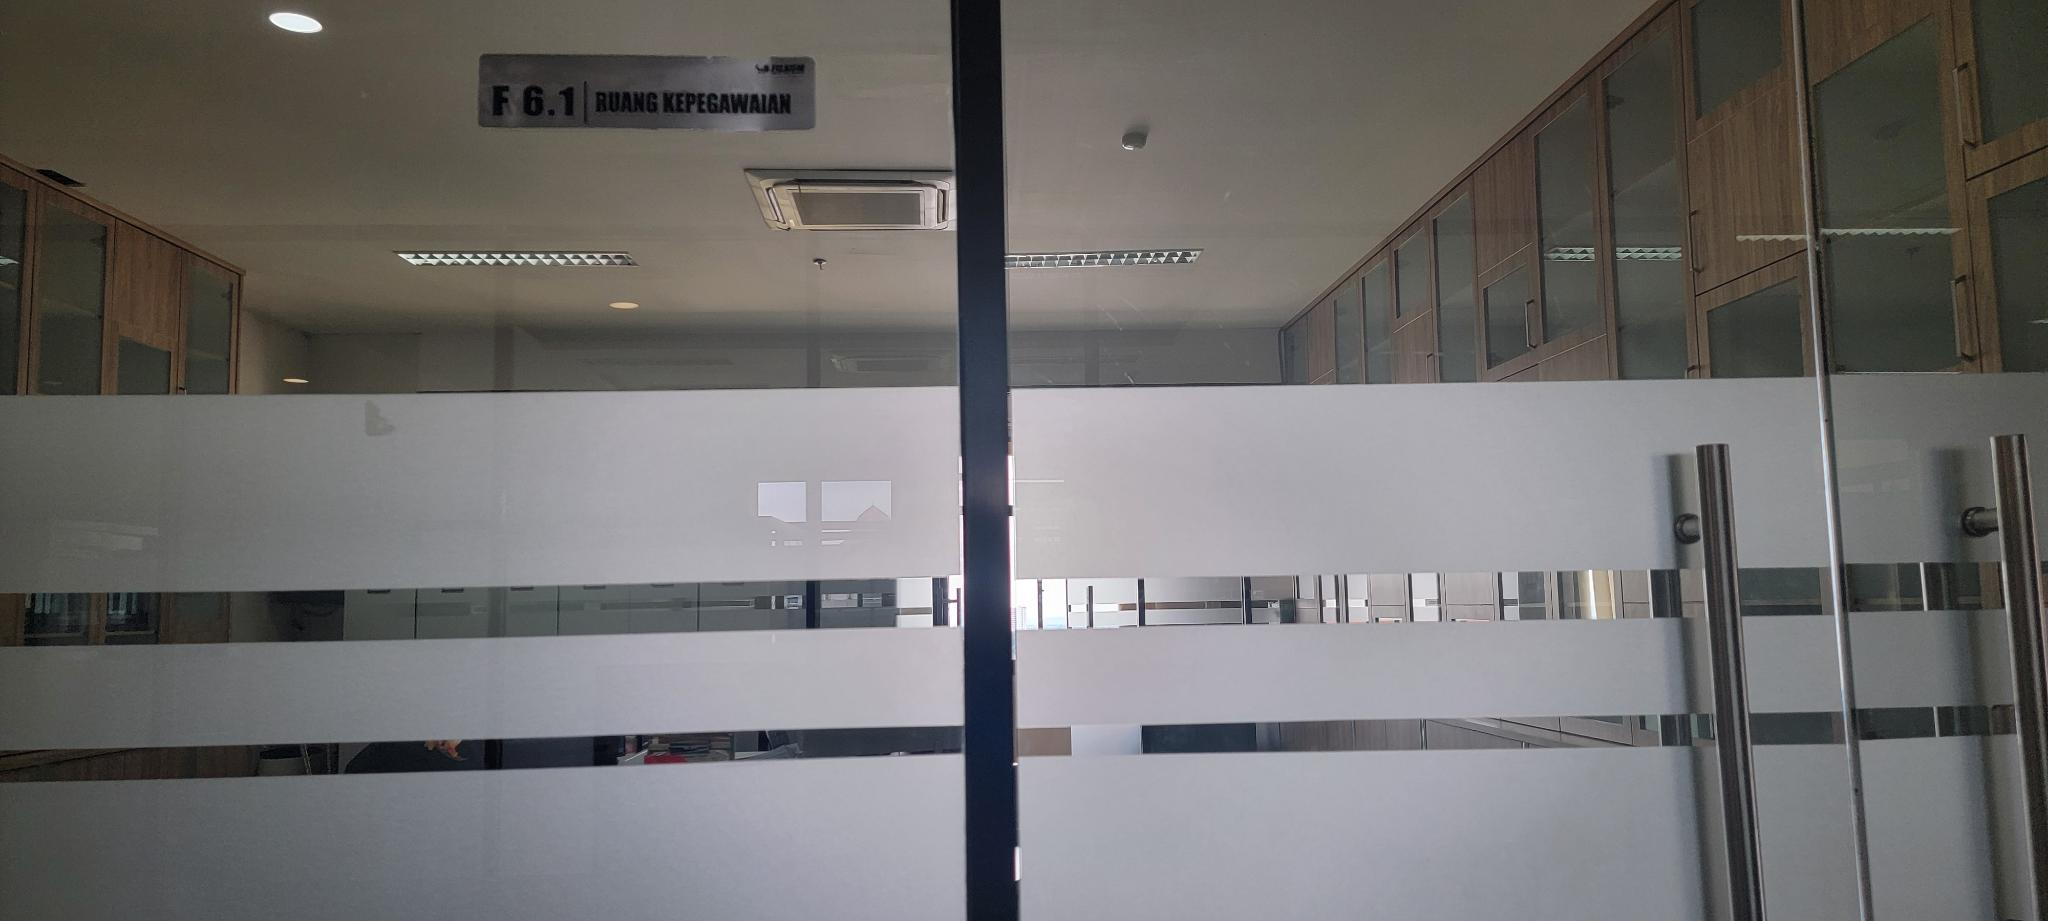plate: (477, 54, 818, 132)
